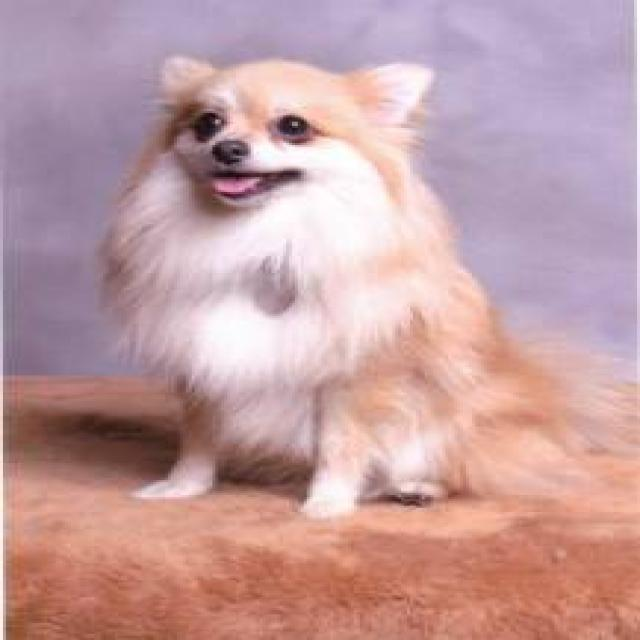dog-pomeranian: (80, 53, 599, 521)
